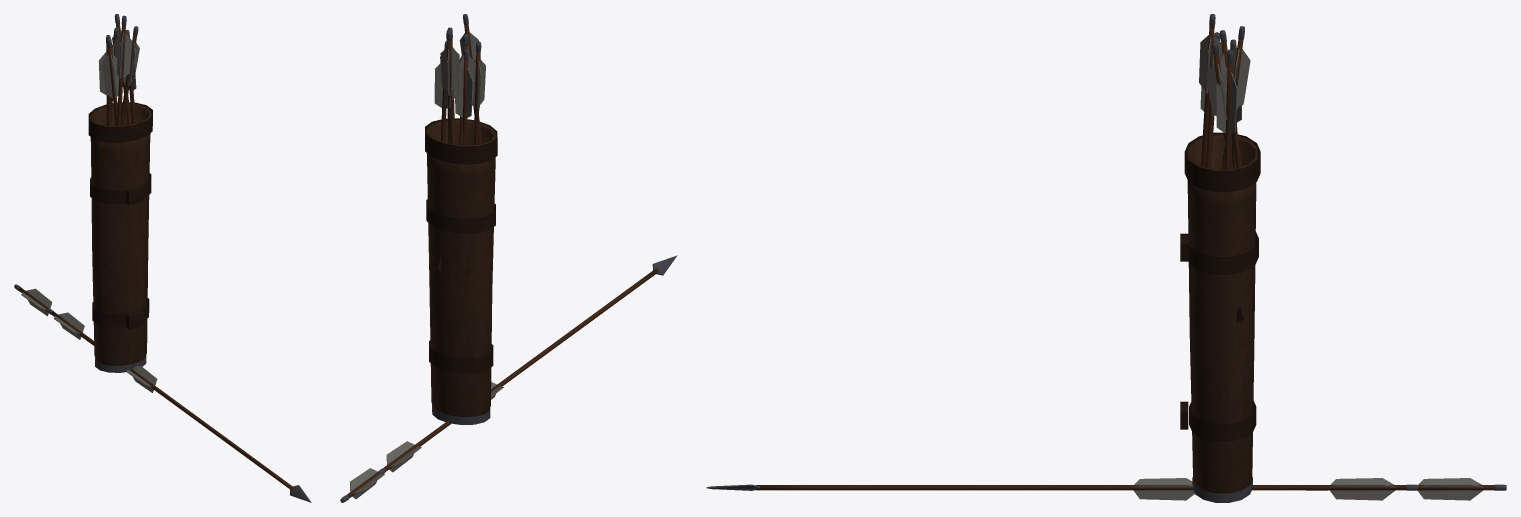
File: arrows_kit.glb
3 renders of one model, left to right at view 1: azimuth 30°, elevation 25°; view 2: azimuth 150°, elevation 25°; view 3: azimuth 270°, elevation 25°, orthographic. The views are drawn at different scales.
Parts seen in each view (by area): view 1: quiver, arrow, arrow_stuck_short, arrow_stuck_deep; view 2: quiver, arrow, arrow_stuck_short, arrow_stuck_deep; view 3: quiver, arrow, arrow_stuck_deep, arrow_stuck_short.
Boxes of the visible parts, x1,y1,x2,y2 form: quiver: [88, 14, 152, 372]; arrow: [126, 365, 311, 502]; arrow_stuck_short: [47, 308, 94, 345]; arrow_stuck_deep: [14, 284, 52, 315]; quiver: [425, 14, 497, 424]; arrow: [491, 255, 677, 399]; arrow_stuck_short: [378, 421, 450, 473]; arrow_stuck_deep: [340, 468, 384, 502]; quiver: [1180, 14, 1260, 502]; arrow: [706, 478, 1194, 500]; arrow_stuck_deep: [1298, 478, 1506, 500]; arrow_stuck_short: [1252, 478, 1417, 500].
Size of the model in its own units: 0.1365 by 0.8076 by 1.21.
Materials: 1 (1 with a texture image).
